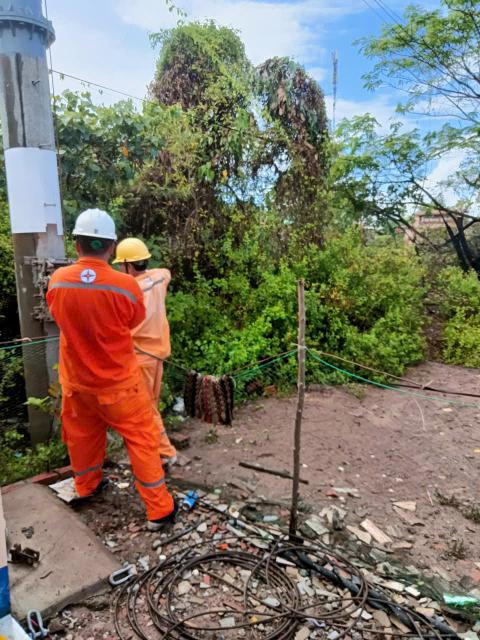helmet: (61, 201, 116, 248), (107, 230, 156, 272)
shoes: (138, 491, 185, 536)
